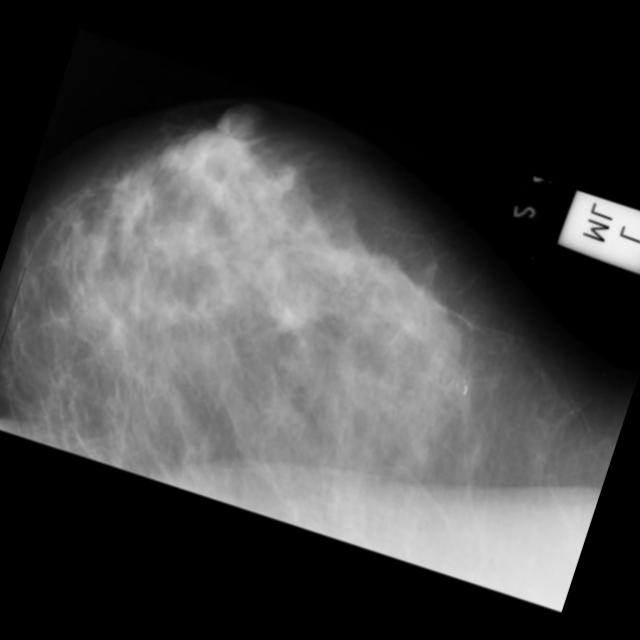CALC: (436, 364, 482, 410)
